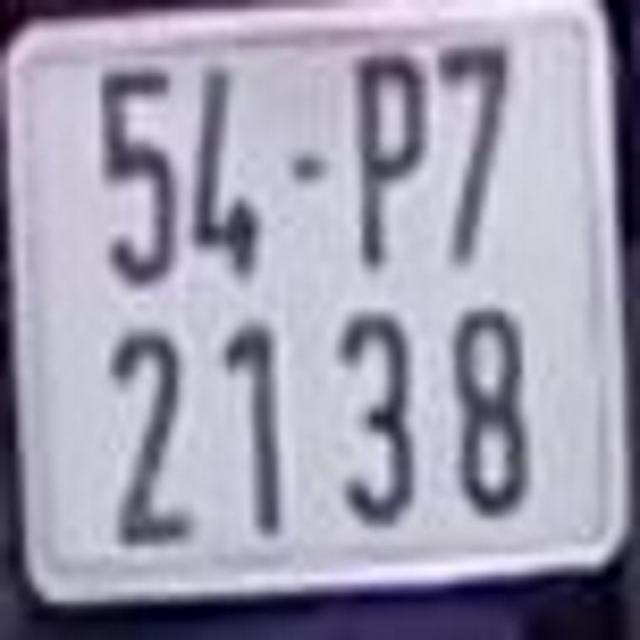1: (219, 314, 305, 545)
2: (106, 312, 194, 546)
3: (335, 304, 413, 524)
4: (186, 50, 260, 297)
5: (96, 60, 180, 282)
7: (432, 39, 510, 264)
8: (448, 296, 530, 514)
P: (352, 45, 429, 262)
